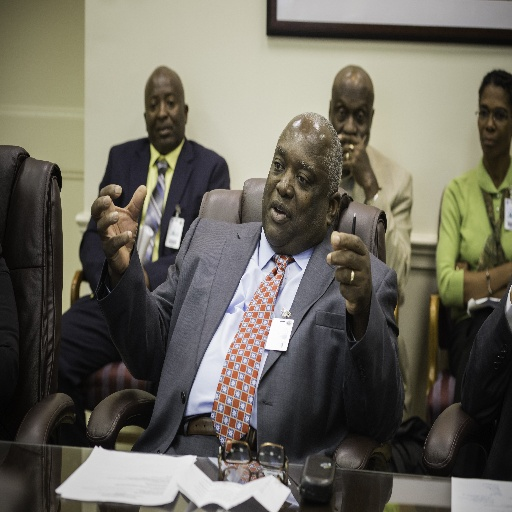hand: (88, 182, 148, 281), (333, 228, 378, 310), (336, 133, 376, 189), (455, 258, 470, 270)
